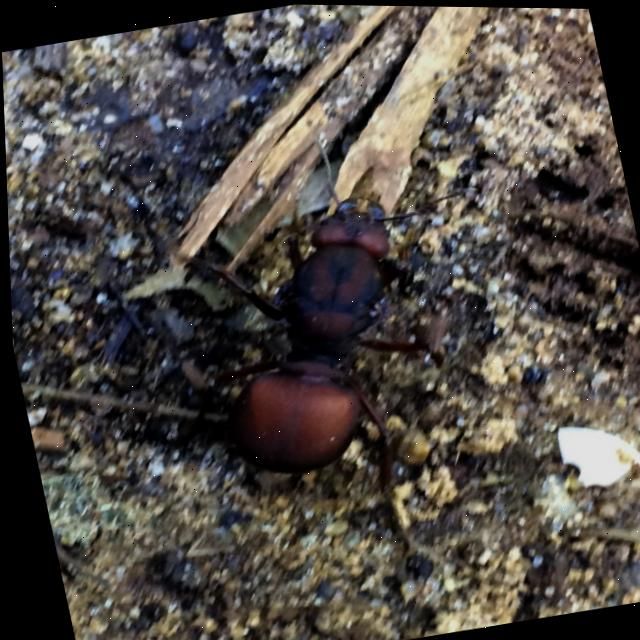Alive-Female-Dealate: (98, 109, 546, 599)
